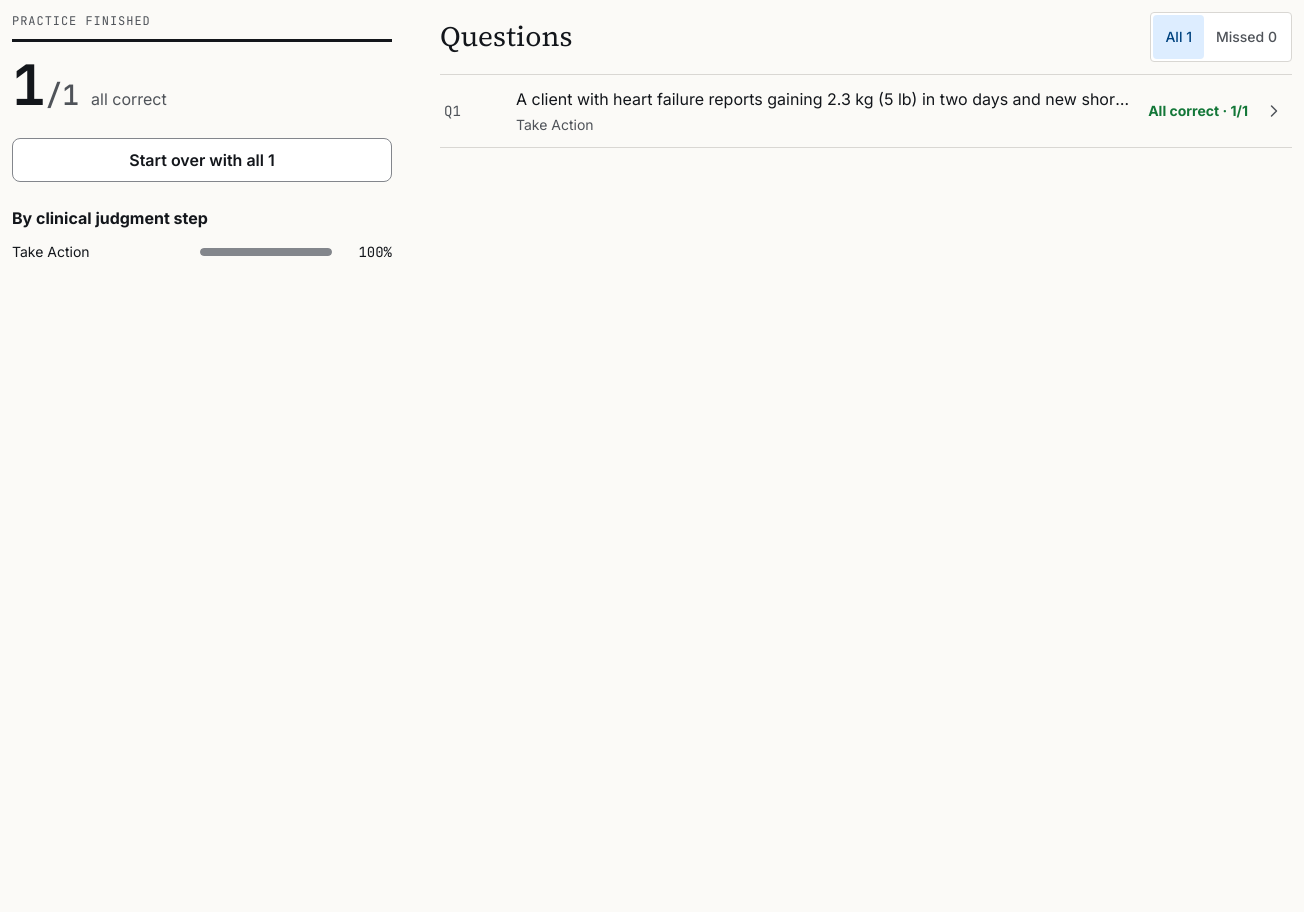
Scenario: PracticePlayer (#241) › reopens an item this run has answered in feedback, with no Submit
Expected: the element "Practice finished" is shown, [12,12,1292,262]
Click the button with aria-label "Q1,". click: {"x": 866, "y": 111}
box: [440,75,1292,147]
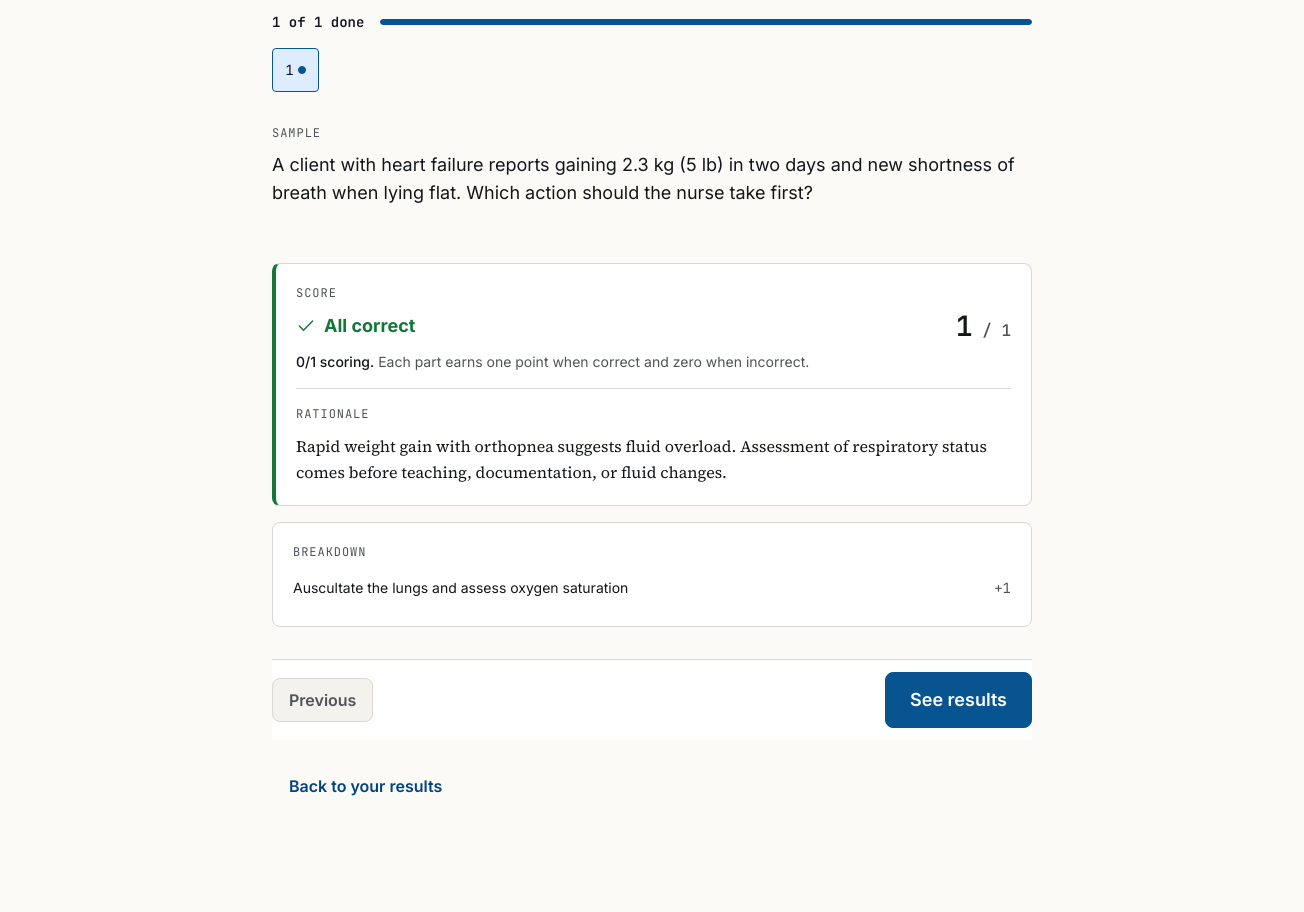
Expected: the text "Rapid weight gain with orthopnea suggests fluid overload. Assessment of respiratory status comes before teaching, docume" is shown, [296,435,987,483]
Expected: the text with test id "practice-count" reads "1 of 1 done", [272,13,364,31]
Click the button "See results". click: {"x": 959, "y": 700}
box: [885,672,1032,728]
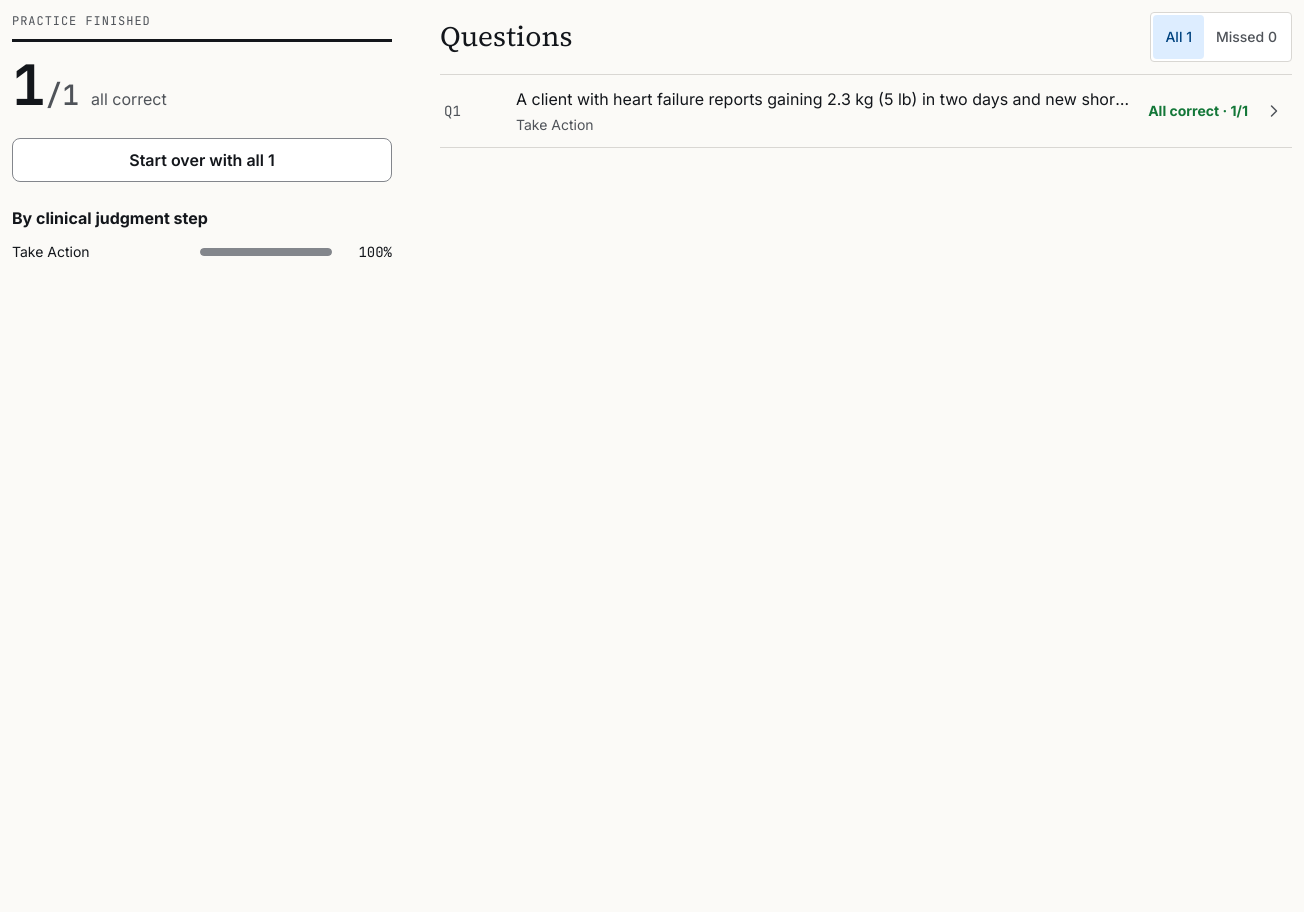
Expected: the element "Practice finished" is shown, [12,12,1292,262]
